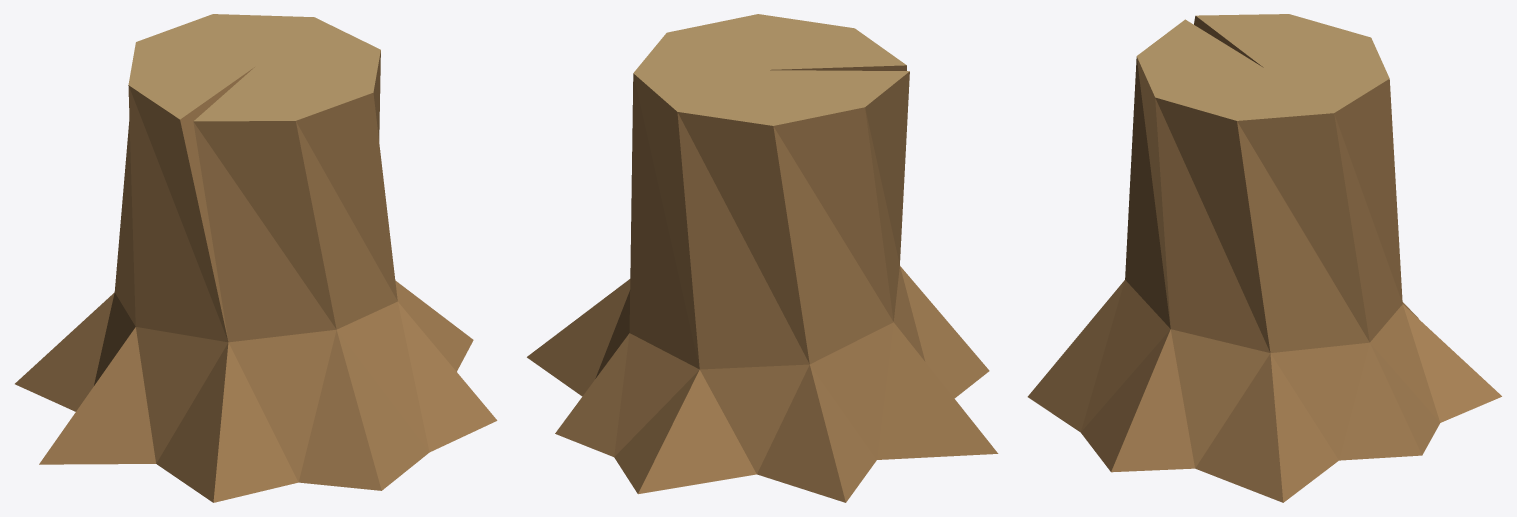
Rendered from log01.fbx.
3 renders of one model, left to right at view 1: azimuth 30°, elevation 25°; view 2: azimuth 150°, elevation 25°; view 3: azimuth 270°, elevation 25°, orthographic. The views are drawn at different scales.
Visible parts, largest first — view 1: log_01; view 2: log_01; view 3: log_01.
Boxes of the visible parts, x1=… form: log_01: x1=15, y1=14, x2=497, y2=502; log_01: x1=527, y1=14, x2=998, y2=502; log_01: x1=1027, y1=14, x2=1501, y2=502.
Size of the model in its own units: 1.06 by 0.9914 by 0.7863.
